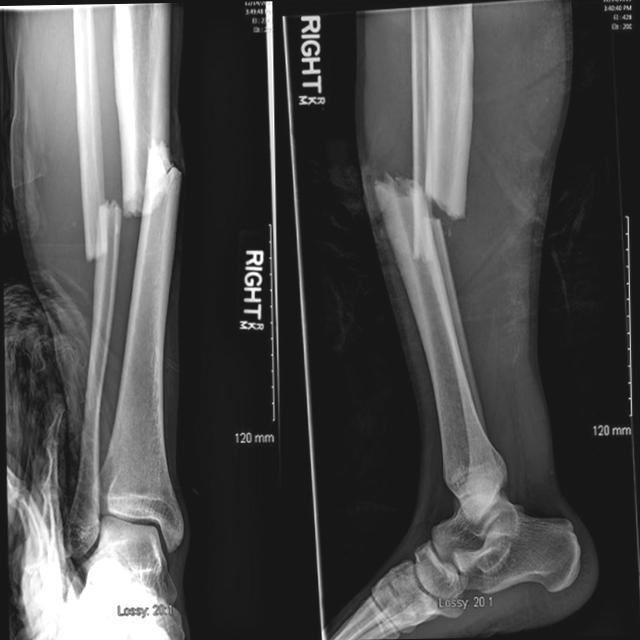Transverse: (363, 140, 486, 280), (120, 141, 193, 228), (67, 184, 129, 270)
